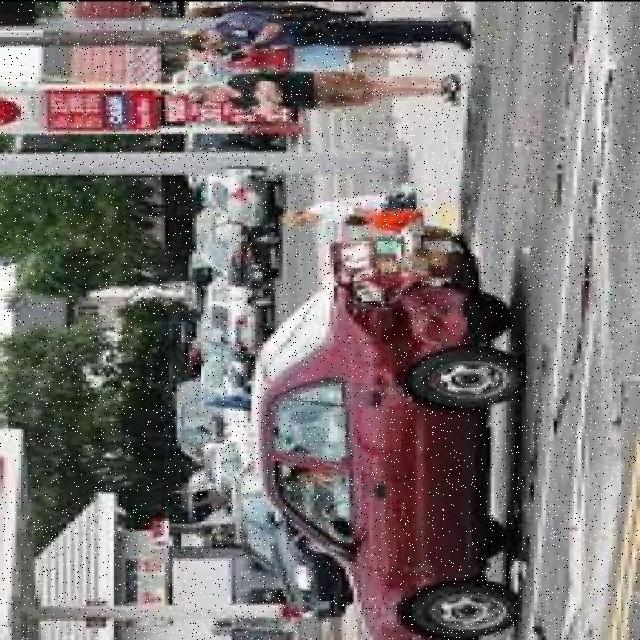damage: (340, 245, 470, 364)
